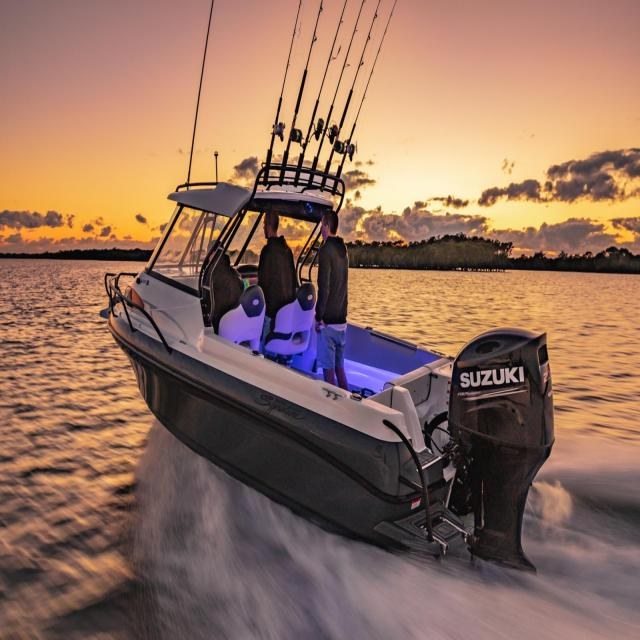Fishing Boat: (94, 61, 567, 490)
